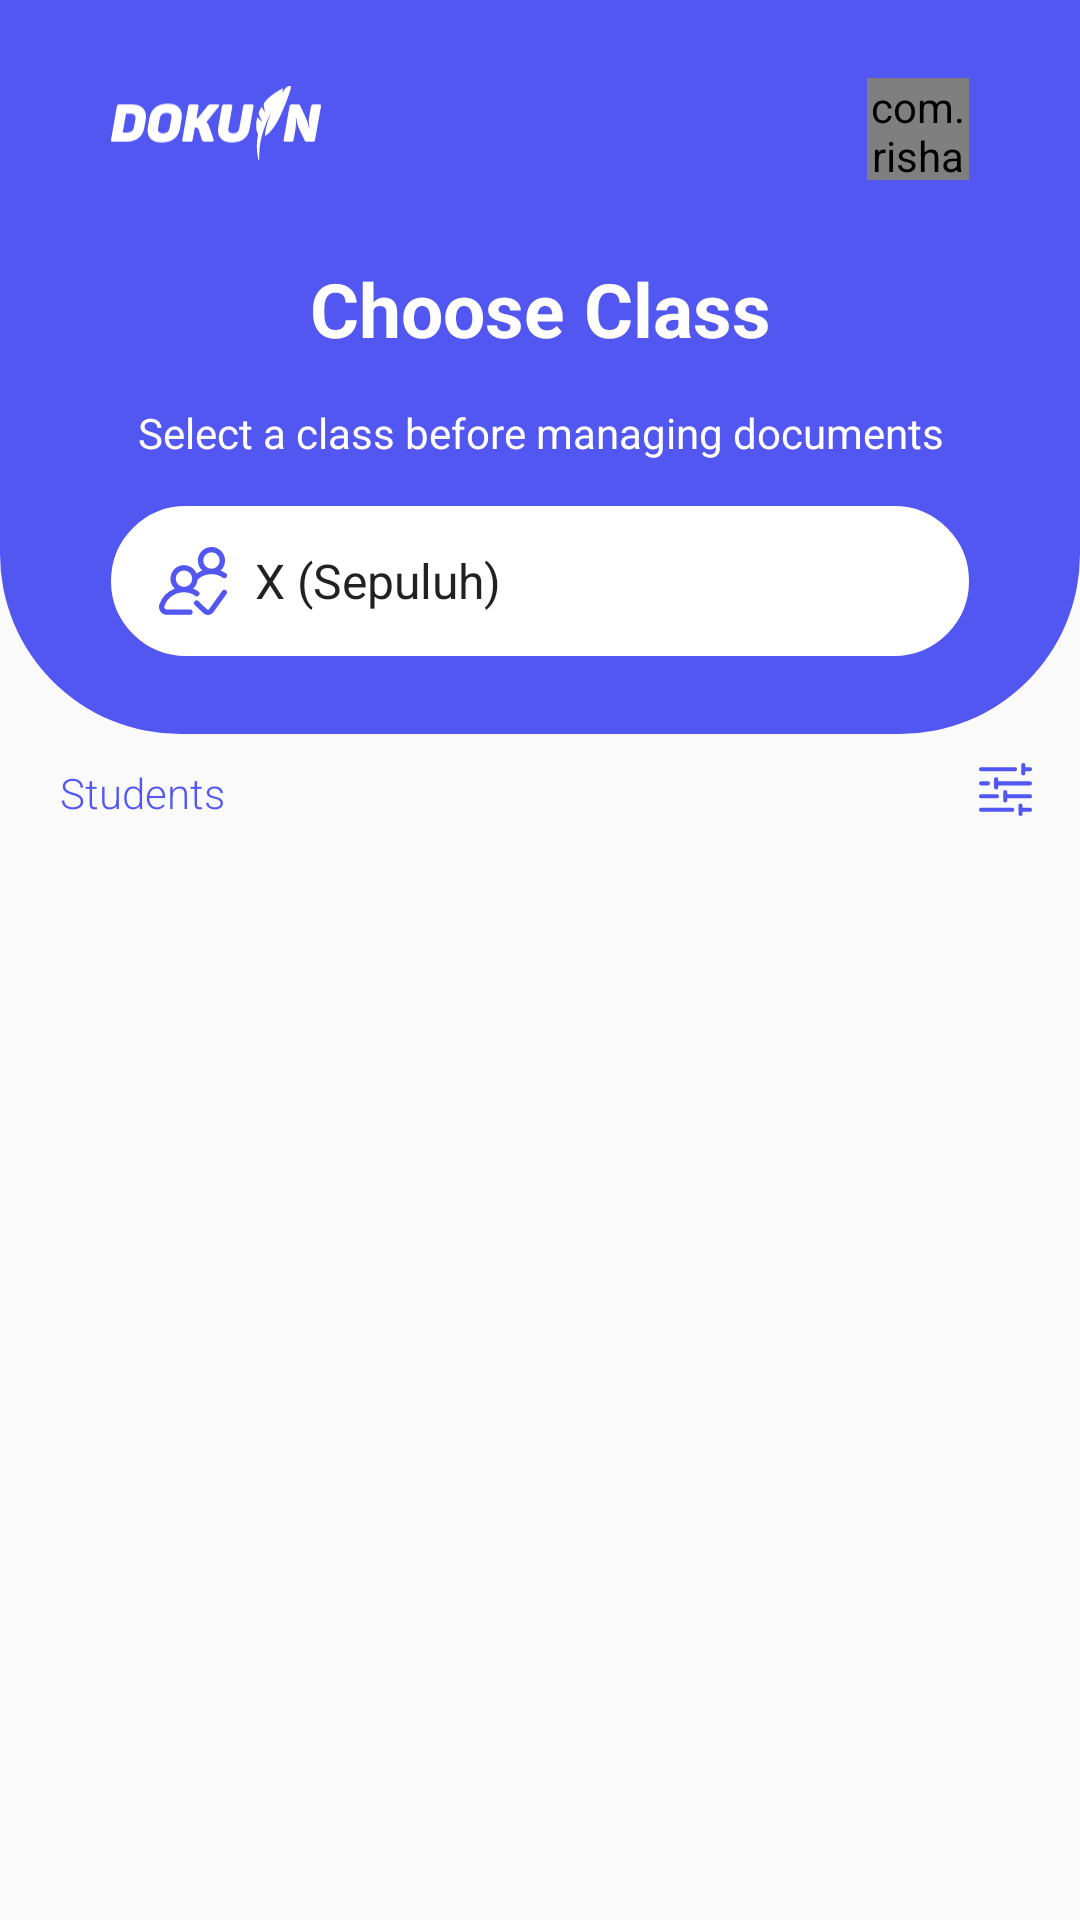

Screen size 1080×1920. Icon name, then its center in pixels as (x,y):
filter: (1005,789)
